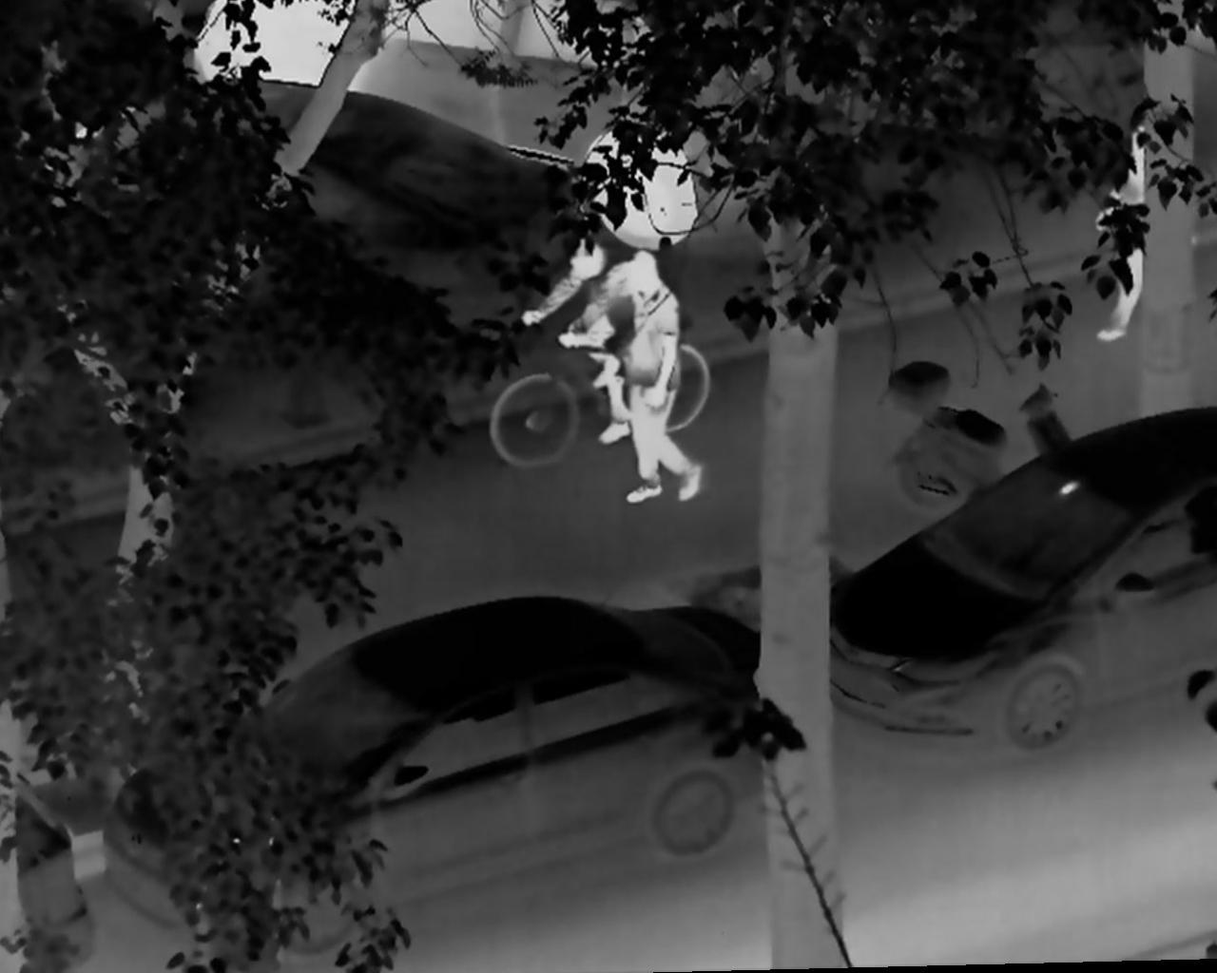person: (519, 233, 665, 448), (612, 250, 704, 510), (1094, 101, 1169, 344)
